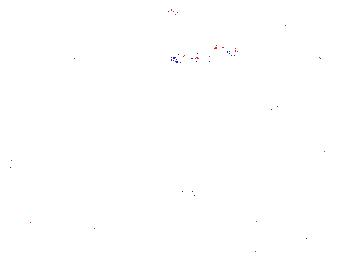red belly glassfish: (164, 4, 196, 18), (311, 48, 334, 66), (262, 95, 279, 115)
redtail glassfish: (161, 164, 215, 214), (169, 42, 242, 66)
siberian prawn: (27, 218, 106, 254)
